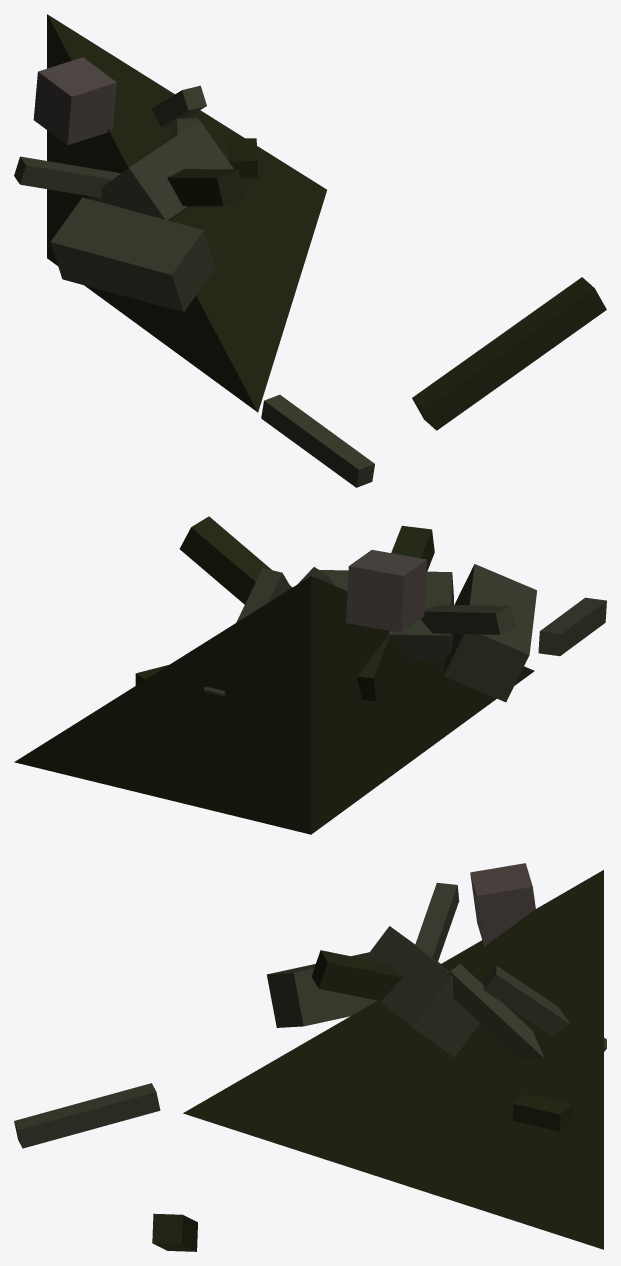
The model's file is SM_PilaZombi_RemateDer_Altura1_s0_LOD0.fbx.
The picture shows the model from 3 angles, top to bottom: view 1: azimuth 30°, elevation 25°; view 2: azimuth 150°, elevation 25°; view 3: azimuth 270°, elevation 25°; orthographic projection. The views are drawn at different scales.
Visible parts, largest first — view 1: SM_pila_zombis_v0_LOD0; view 2: SM_pila_zombis_v0_LOD0; view 3: SM_pila_zombis_v0_LOD0.
Part boxes in pixels (x1,y1,x2,y2): SM_pila_zombis_v0_LOD0: (14, 14, 606, 487); SM_pila_zombis_v0_LOD0: (14, 516, 606, 834); SM_pila_zombis_v0_LOD0: (14, 863, 606, 1251).
Size of the model in its own units: 1.91 by 1.22 by 2.2.
